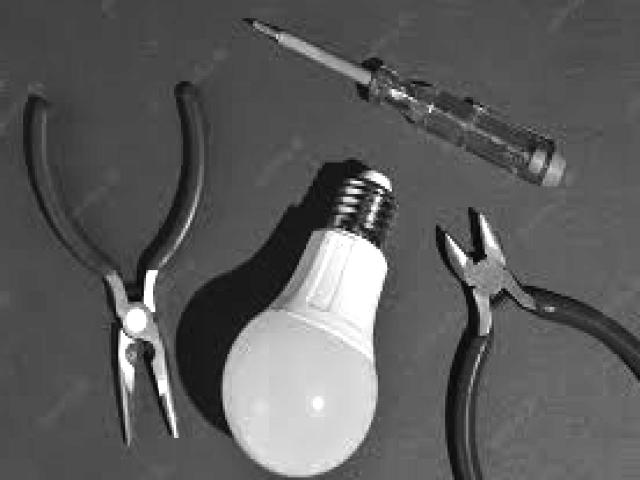Cutting pliers: (436, 211, 640, 480)
Needle-nose pliers: (26, 83, 210, 446)
Screwdriver: (248, 20, 564, 187)
